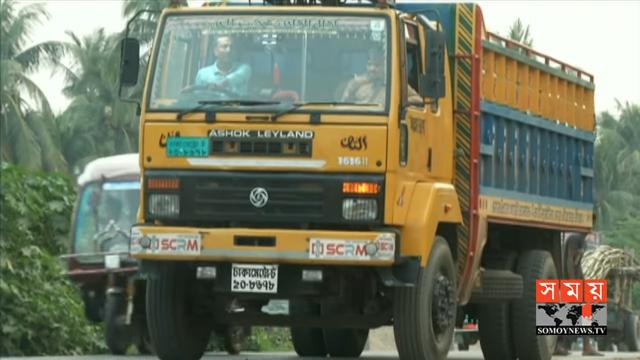truck: (131, 0, 603, 360)
